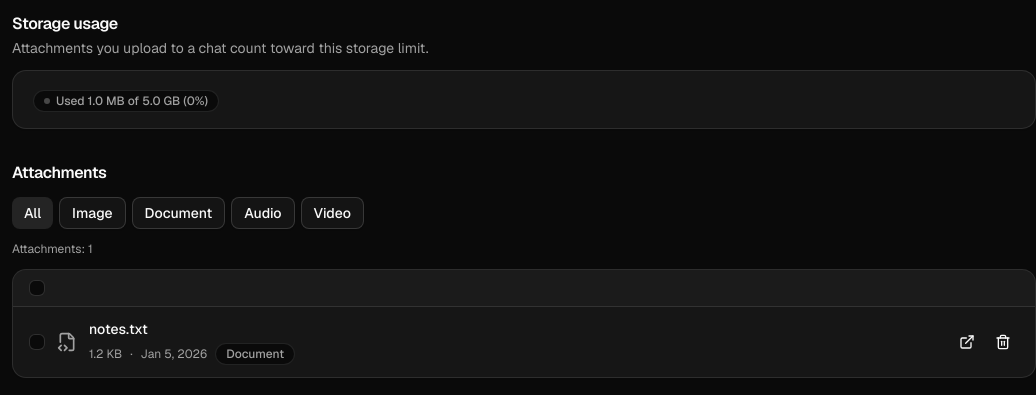
FilesScreen › refetches per category and shows a filtered empty state
expect the text "notes.txt" is shown: met, box [89,320,148,338]
Click the button "Image" at (92, 213), box [59,197,126,229]
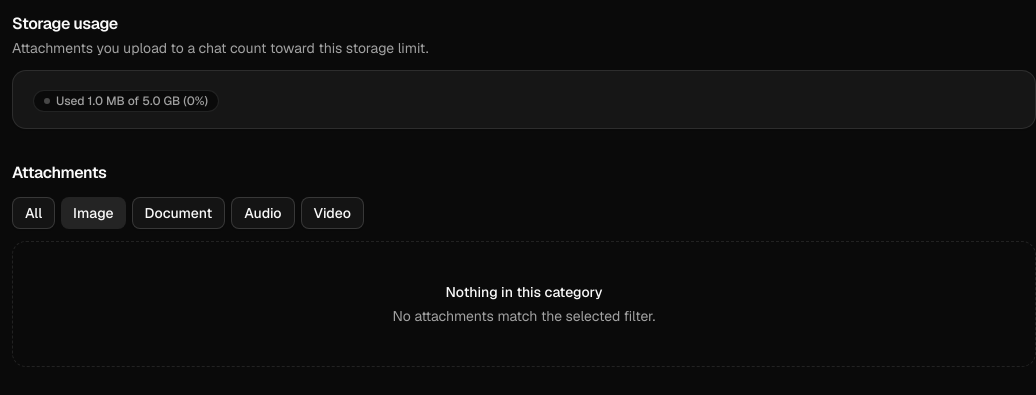
expect the text "Nothing in this category" is shown: met, box [446,282,602,302]
